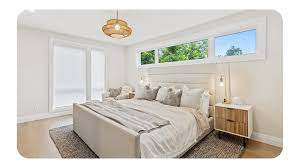bed-matress: (70, 91, 211, 158)
